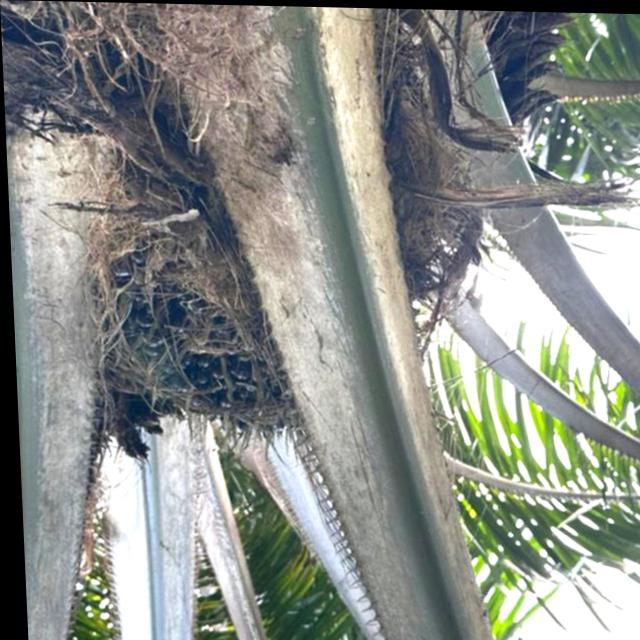almost: (112, 251, 304, 446)
